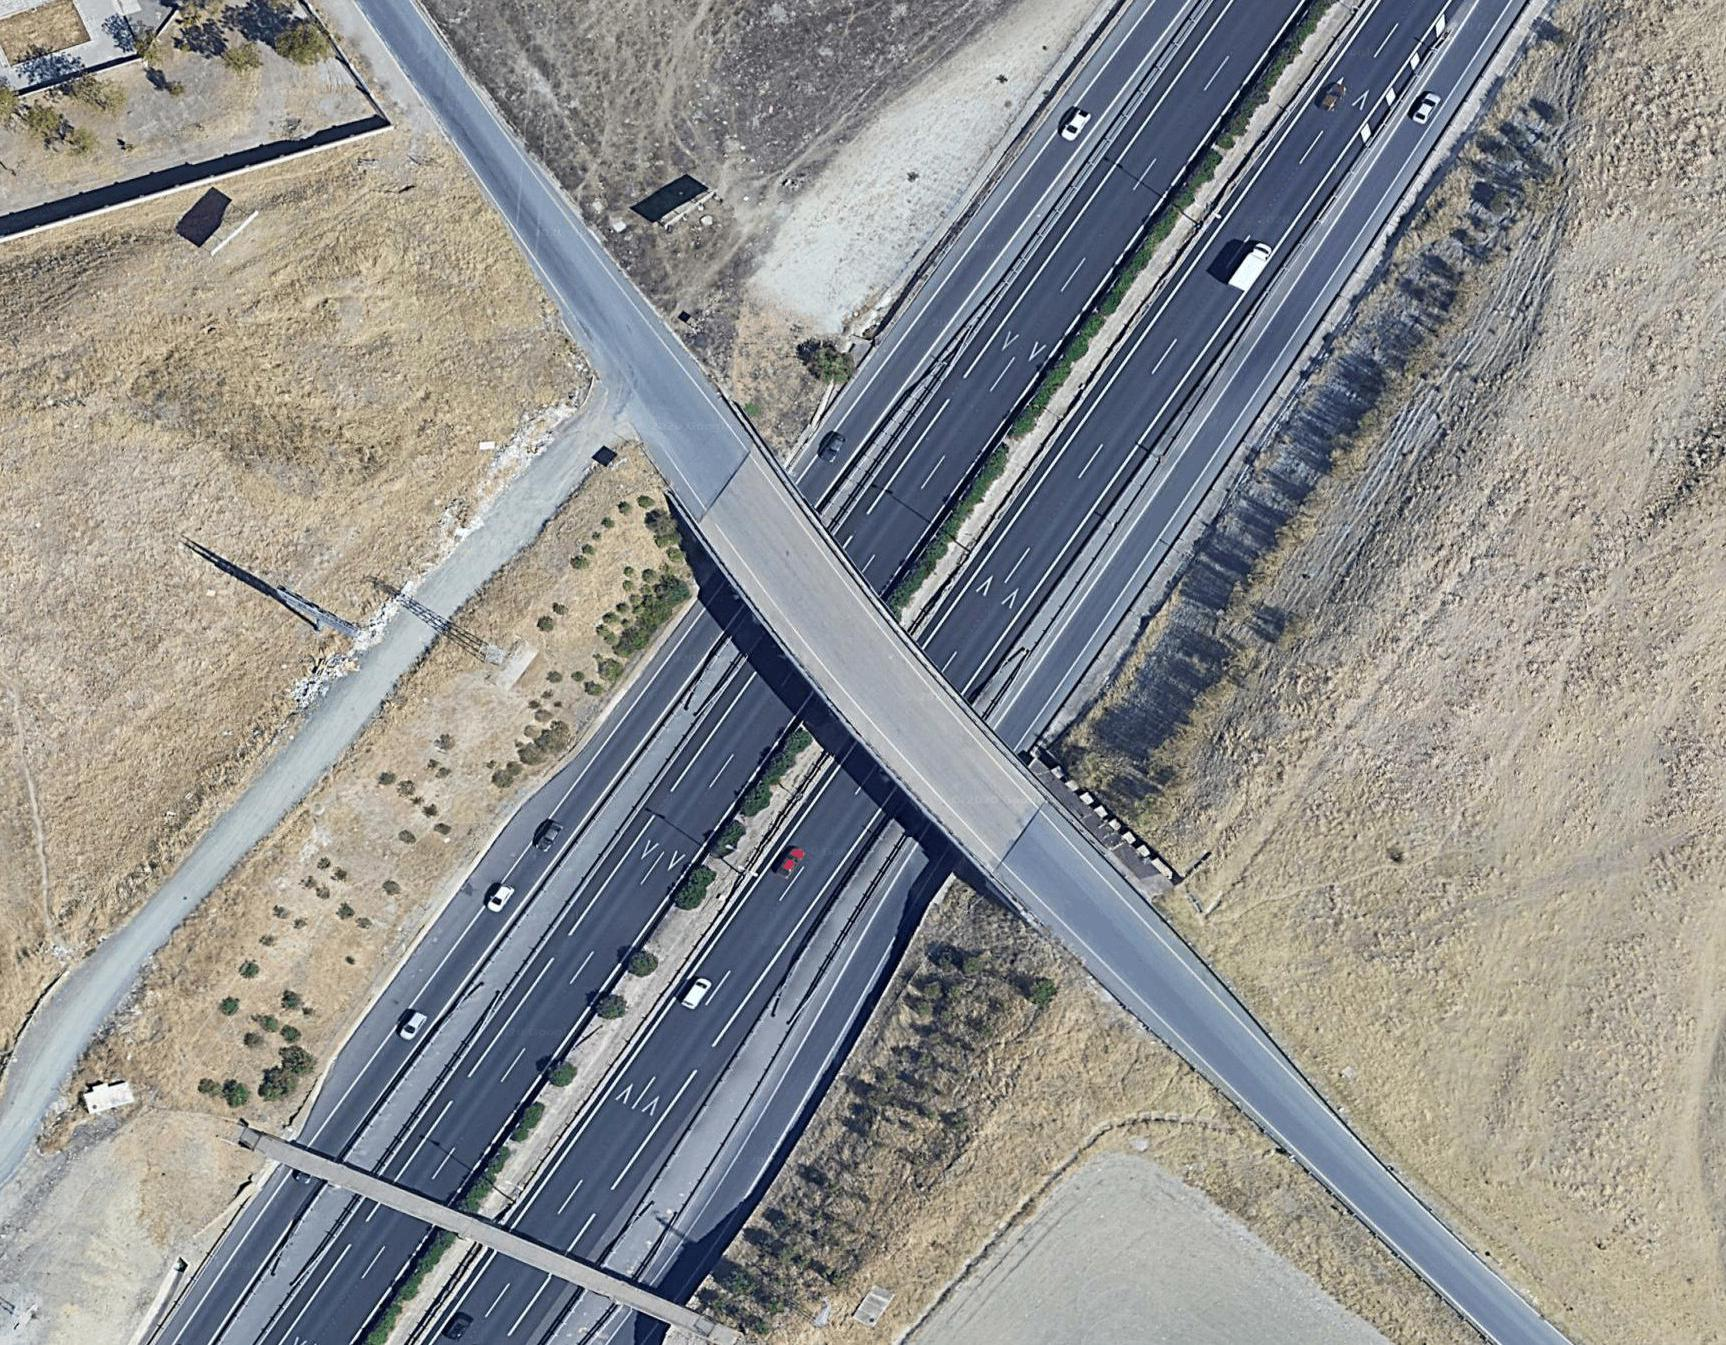bridge: (628, 472, 1121, 904)
small-vehicle: (1233, 237, 1273, 296), (1058, 94, 1096, 149), (773, 848, 806, 878), (1411, 92, 1440, 126), (396, 1012, 426, 1045)
